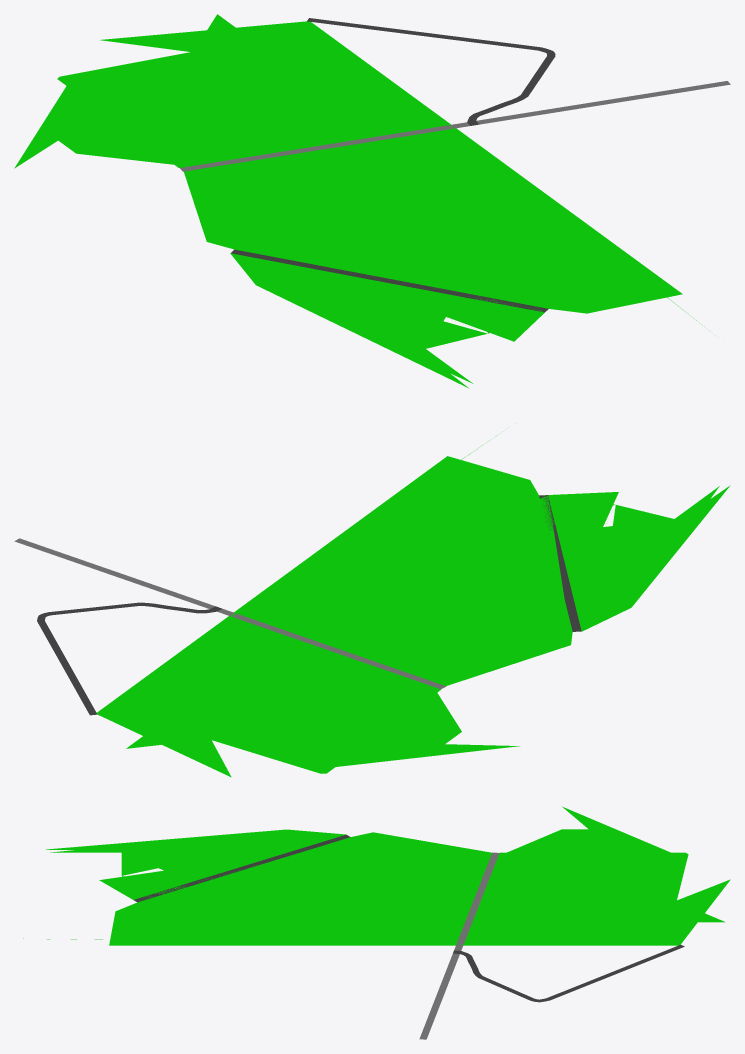
3 renders of one model, top to bottom at view 1: azimuth 30°, elevation 25°; view 2: azimuth 150°, elevation 25°; view 3: azimuth 270°, elevation 25°, orthographic. The views are drawn at different scales.
Size of the model in its own units: 302 by 0 by 391.
